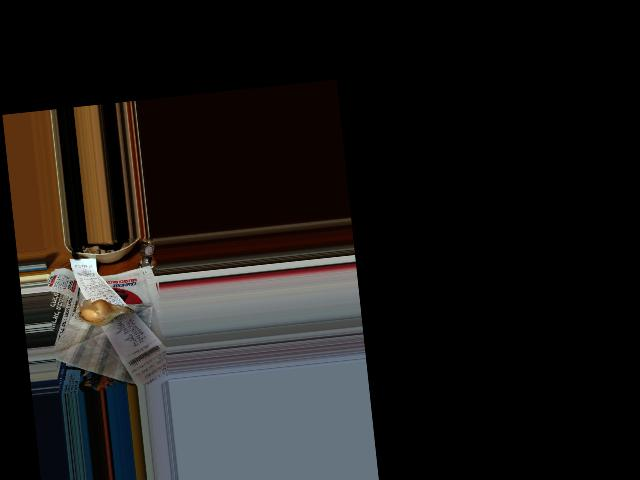onion: (79, 299, 119, 327)
